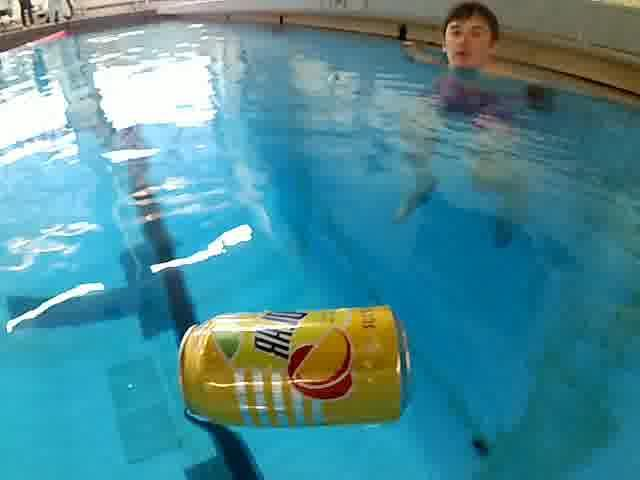Can: (176, 308, 410, 431)
